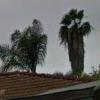Palm tree: (12, 6, 96, 72)
